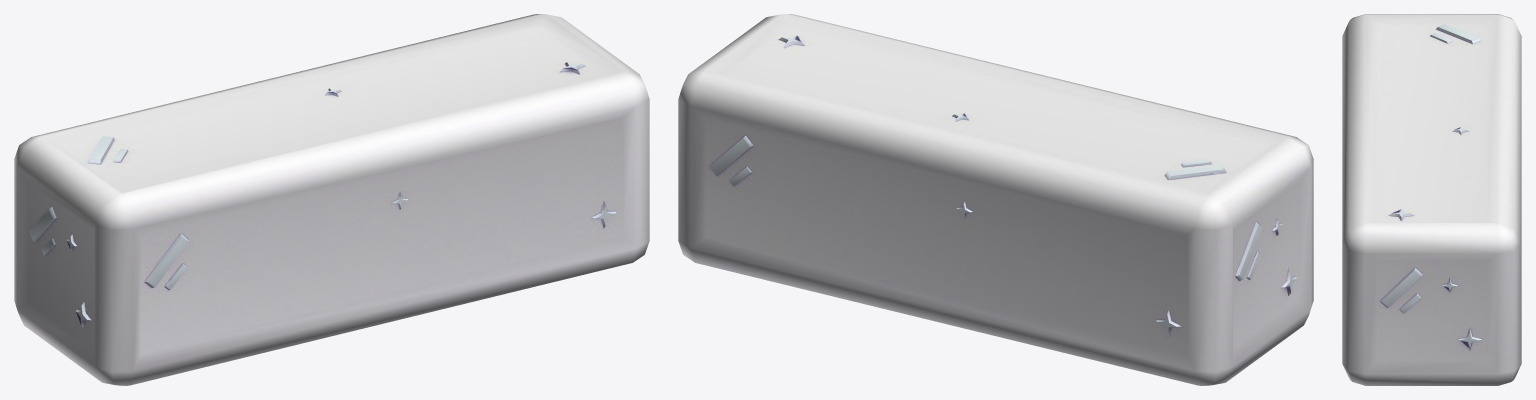
Rendered from pl_buz3.glb.
3 renders of one model, left to right at view 1: azimuth 30°, elevation 25°; view 2: azimuth 150°, elevation 25°; view 3: azimuth 270°, elevation 25°, orthographic. The views are drawn at different scales.
Visible parts, largest first — view 1: pl_buz3; view 2: pl_buz3; view 3: pl_buz3.
Boxes of the visible parts, <box> form: pl_buz3: <box>14,14,649,385</box>; pl_buz3: <box>678,14,1313,385</box>; pl_buz3: <box>1342,14,1521,385</box>.
Size of the model in its own units: 4.64 by 1.54 by 1.54.
Materials: 1 (1 with a texture image).
